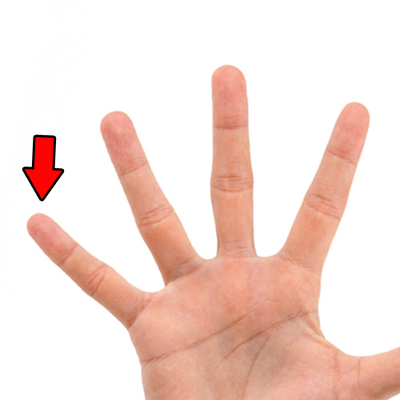mindinho: (17, 207, 150, 342)
